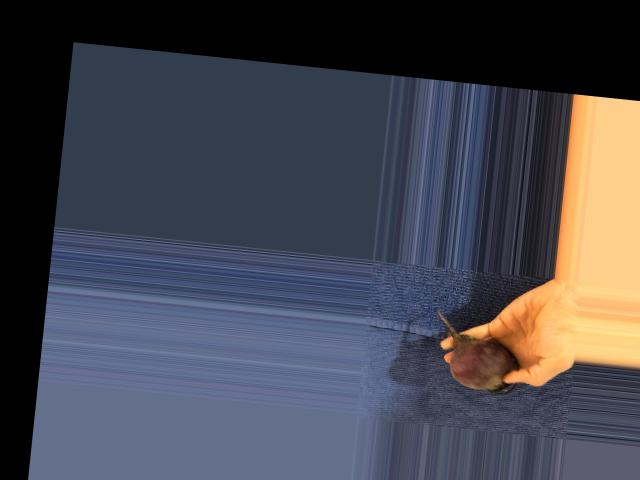beet: (429, 309, 523, 396)
